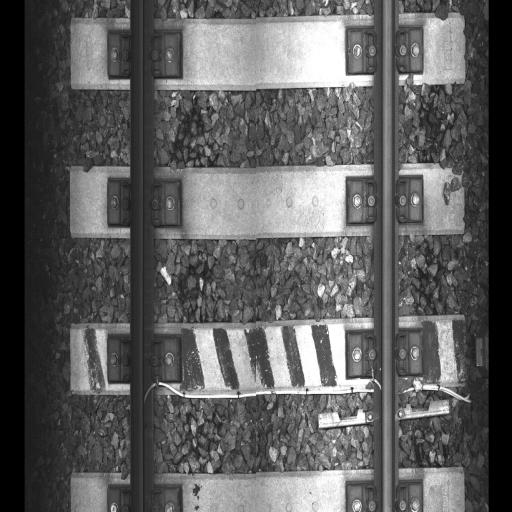sleeper: (70, 166, 466, 233), (70, 324, 466, 391), (70, 21, 466, 83), (70, 473, 466, 511)
